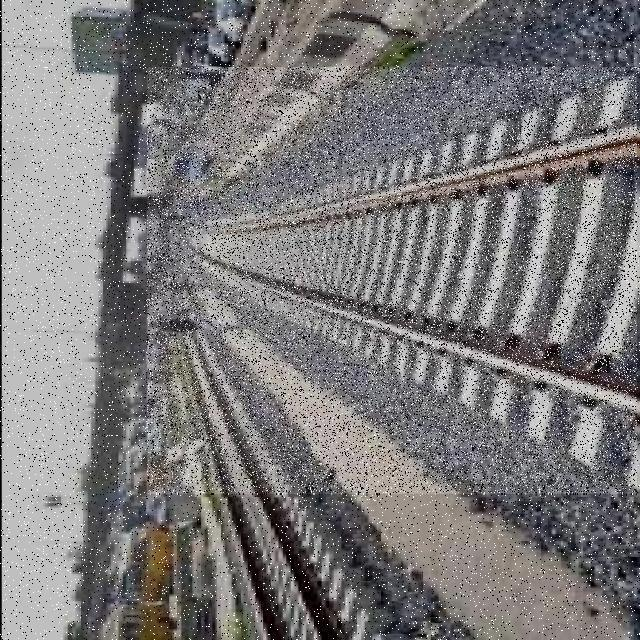rail: (149, 68, 638, 495)
